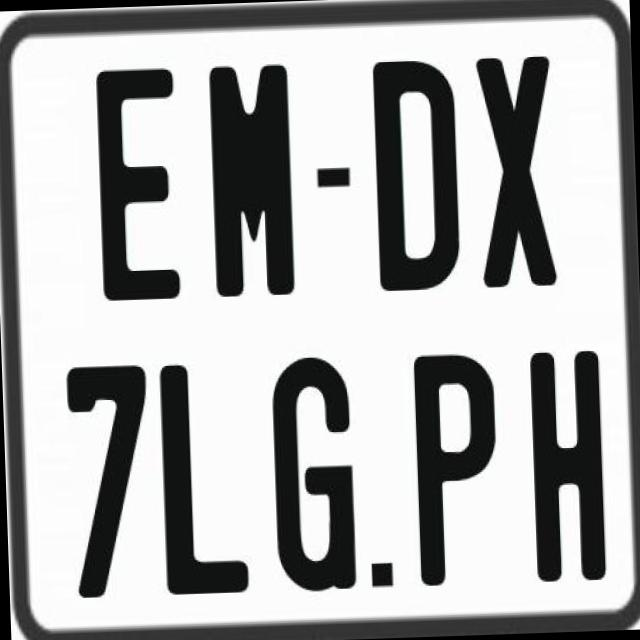7: (65, 364, 155, 606)
D: (370, 58, 460, 290)
E: (94, 69, 188, 308)
G: (268, 352, 360, 590)
H: (526, 350, 610, 584)
L: (156, 360, 254, 598)
M: (208, 60, 295, 297)
P: (411, 351, 498, 584)
X: (477, 50, 562, 282)
